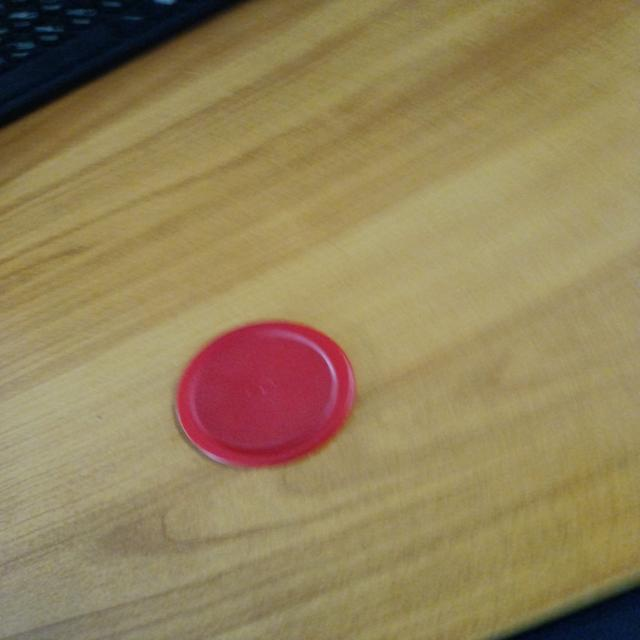chip: (172, 318, 361, 470)
